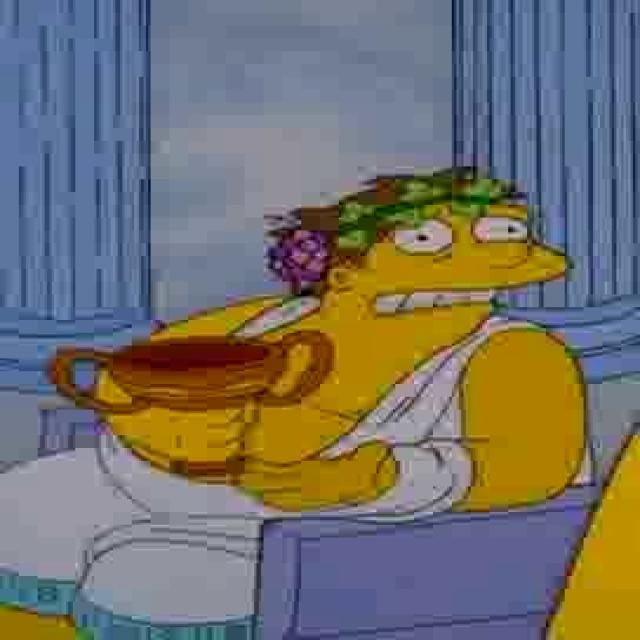Barney Gumble: (322, 197, 576, 344)
